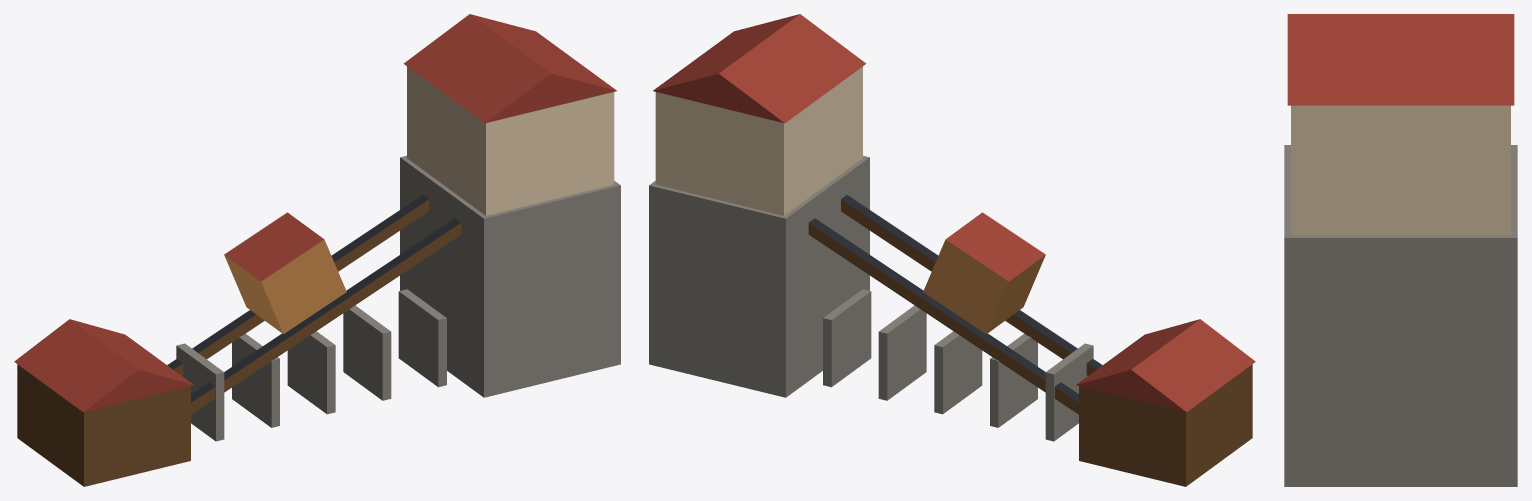
The model's file is ascensor_porteno.obj.
3 renders of one model, left to right at view 1: azimuth 30°, elevation 25°; view 2: azimuth 150°, elevation 25°; view 3: azimuth 270°, elevation 25°, orthographic. The views are drawn at different scales.
Parts seen in each view (by area): view 1: ascensor_porteno; view 2: ascensor_porteno; view 3: ascensor_porteno.
Part boxes in pixels (<box>): ascensor_porteno: <box>14,14,620,486</box>; ascensor_porteno: <box>649,14,1255,486</box>; ascensor_porteno: <box>1284,14,1517,486</box>.
Size of the model in its own units: 24.8 by 13.7 by 6.8.
